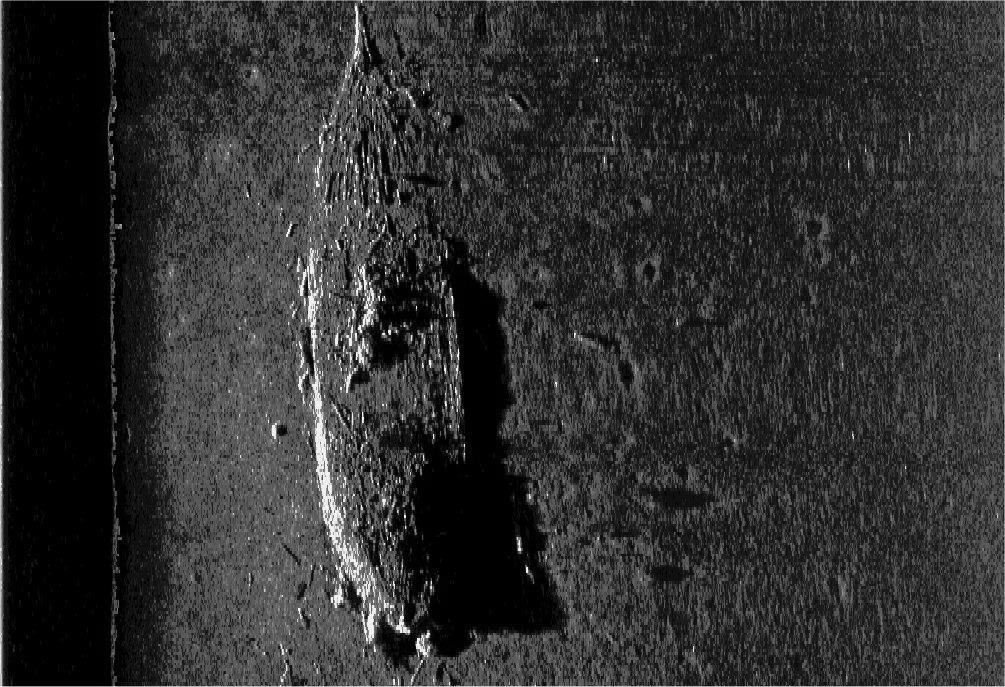ship: (304, 3, 464, 647)
